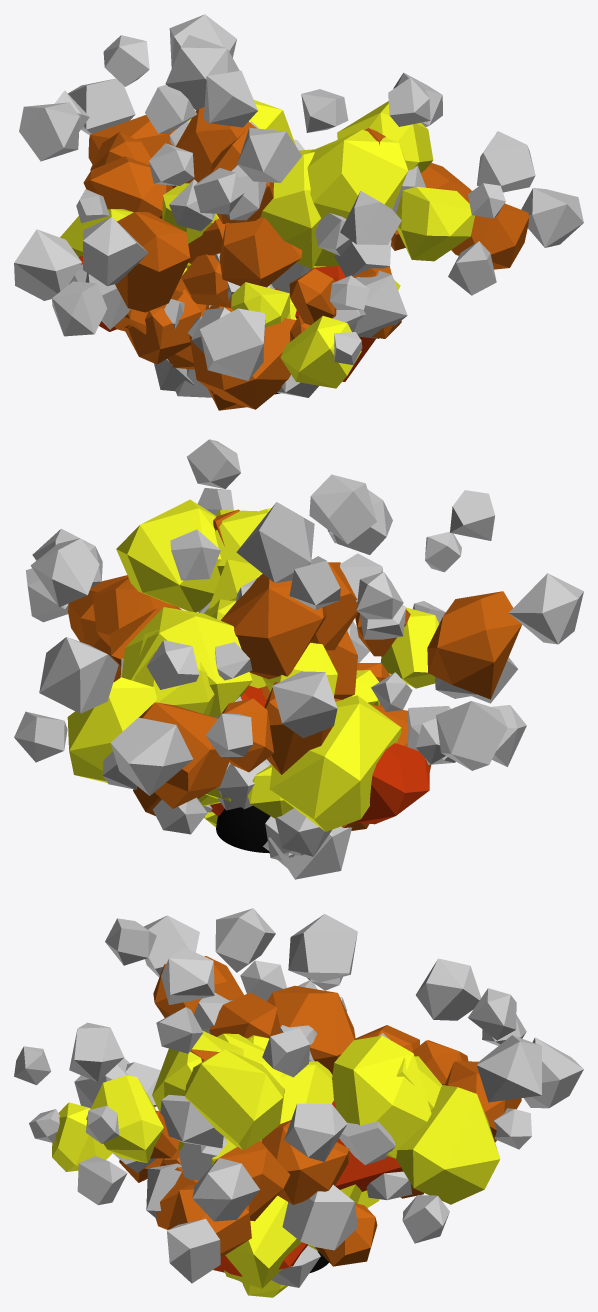
Rendered from Explosion0018.obj.
3 renders of one model, top to bottom at view 1: azimuth 30°, elevation 25°; view 2: azimuth 150°, elevation 25°; view 3: azimuth 270°, elevation 25°, orthographic. The views are drawn at different scales.
Parts seen in each view (by area): view 1: Cube_Material, Cube.001_Material.002, Cube.002_Material.003, Cube.003_Material.004; view 2: Cube_Material, Cube.002_Material.003, Cube.001_Material.002, Cube.003_Material.004, Circle_Material.001; view 3: Cube_Material, Cube.002_Material.003, Cube.001_Material.002, Cube.003_Material.004.
Part boxes in pixels (<box>): Cube_Material: <box>14,14,583,397</box>; Cube.001_Material.002: <box>83,107,528,410</box>; Cube.002_Material.003: <box>60,100,474,388</box>; Cube.003_Material.004: <box>79,256,375,381</box>; Cube_Material: <box>14,439,583,879</box>; Cube.002_Material.003: <box>67,499,439,831</box>; Cube.001_Material.002: <box>67,509,521,830</box>; Cube.003_Material.004: <box>210,685,429,824</box>; Circle_Material.001: <box>216,806,270,853</box>; Cube_Material: <box>14,908,583,1297</box>; Cube.002_Material.003: <box>52,1030,500,1297</box>; Cube.001_Material.002: <box>119,956,521,1266</box>; Cube.003_Material.004: <box>213,1100,403,1276</box>.
Bounding box in the file's own units: 10.87 × 7.18 × 10.72.
